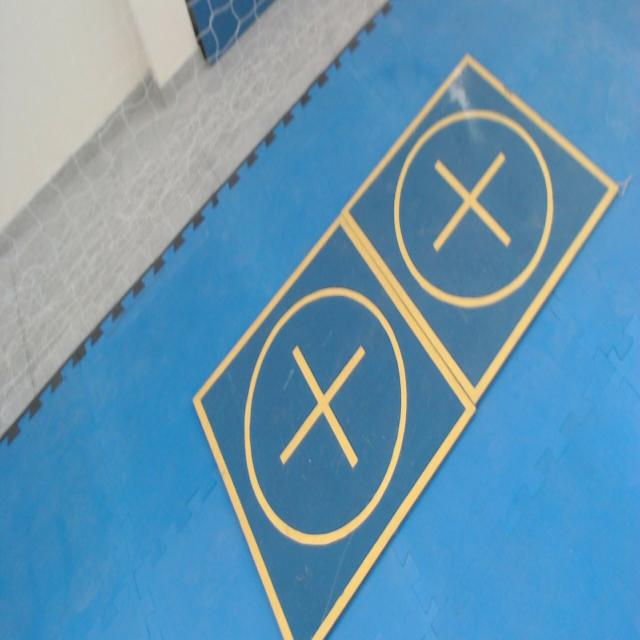base_pouso: (192, 212, 481, 639), (339, 51, 622, 411)
